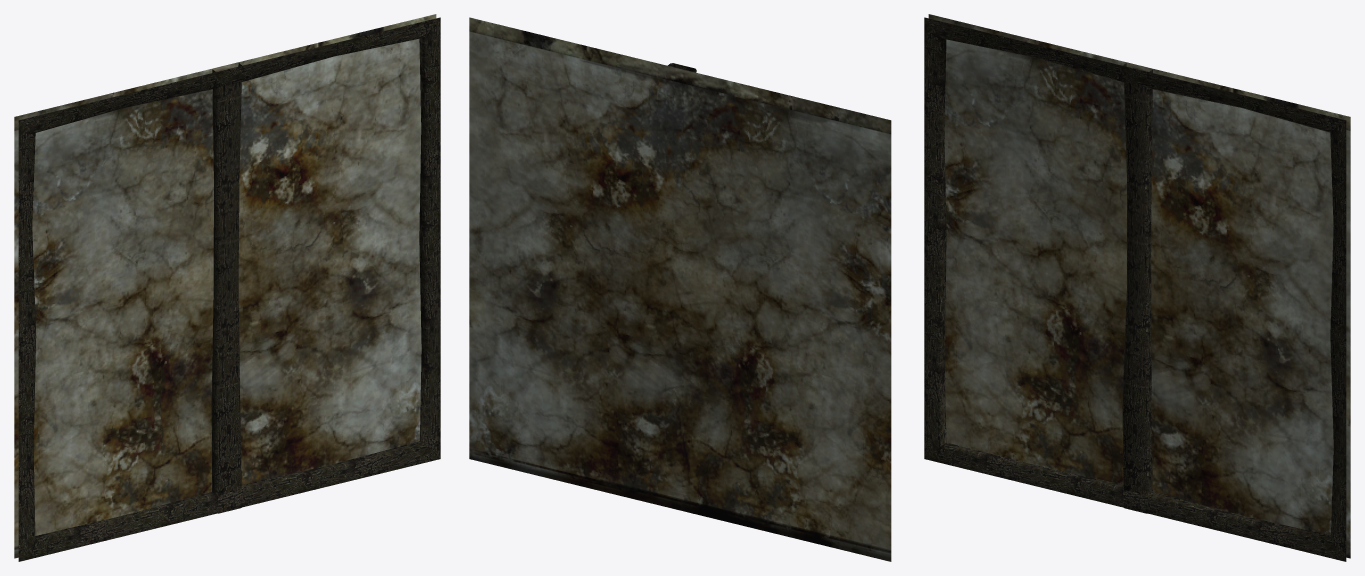
Rendered from cellar_ceiling_02.DAE.
3 renders of one model, left to right at view 1: azimuth 30°, elevation 25°; view 2: azimuth 150°, elevation 25°; view 3: azimuth 330°, elevation 25°, orthographic.
Parts seen in each view (by area): view 1: Box025, Box024; view 2: Box025; view 3: Box025, Box024.
Part boxes in pixels (bbox=[...]): Box025: bbox=[14, 14, 436, 558]; Box024: bbox=[18, 17, 440, 561]; Box025: bbox=[469, 17, 891, 561]; Box025: bbox=[928, 14, 1350, 558]; Box024: bbox=[924, 17, 1346, 561].
Size of the model in its own units: 4 by 4 by 0.0821.
